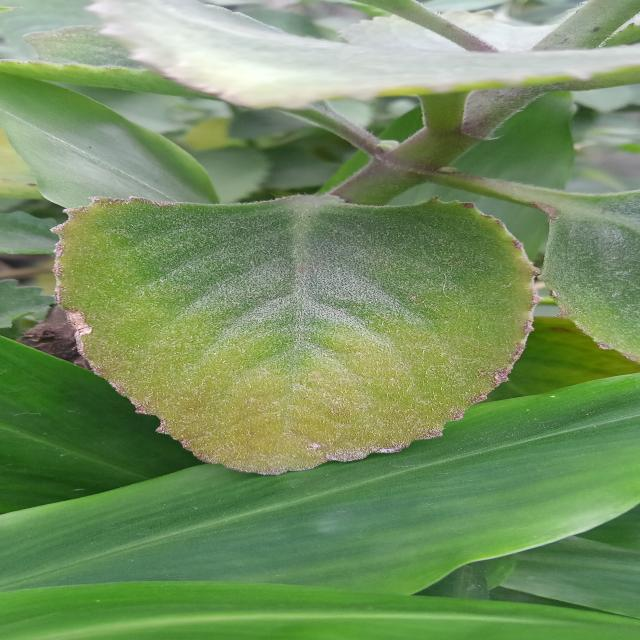Oregano: (29, 177, 588, 494)
